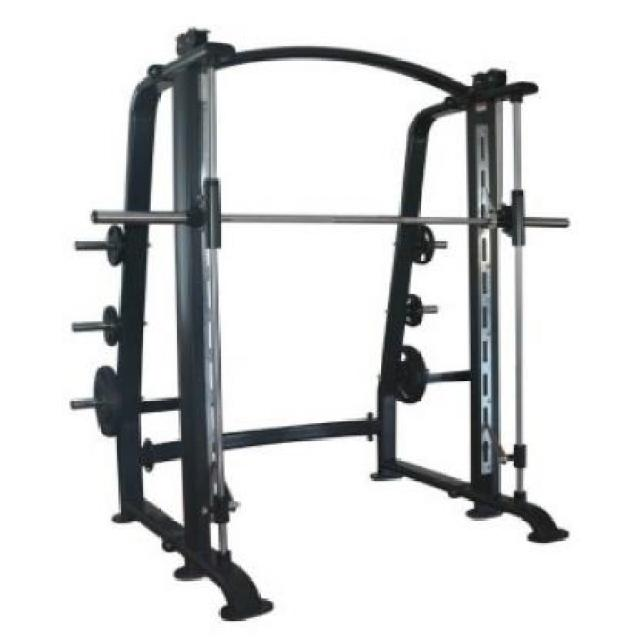smith machine: (69, 25, 571, 623)
